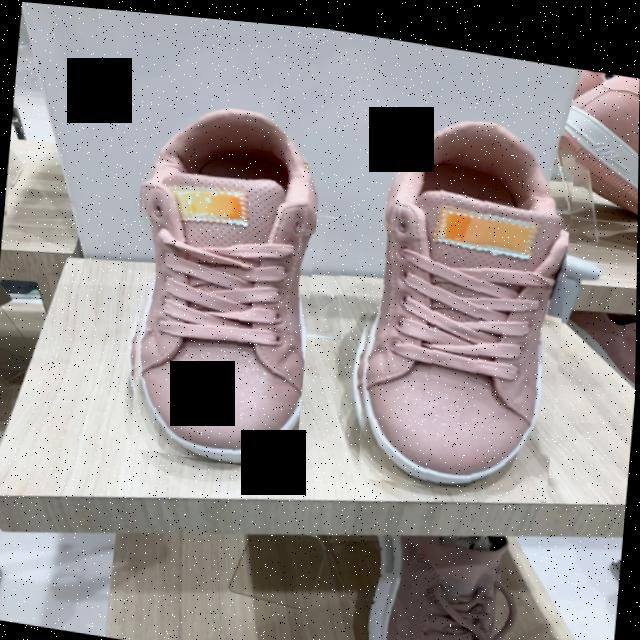shoe: (362, 113, 569, 482), (138, 106, 318, 461)
